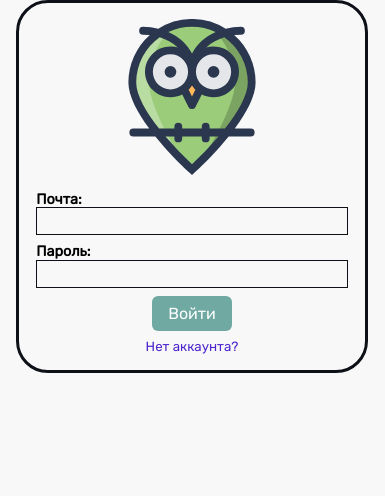
Test: Форма регистрации › рендерит форму Login по умолчанию, по клику рендерит форму Reg
Expected: the text "Пароль:" is shown, [36,244,90,260]
Expected: the text "Почта:" is shown, [36,191,82,208]
Click the button "Нет аккаунта?": (192, 347) [146,339,238,354]
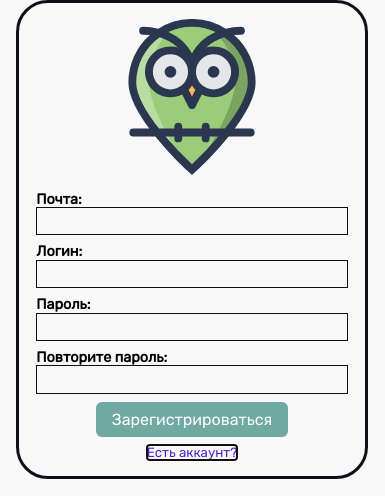
Now the text "Пароль:" is shown, box [36,296,90,313]
Now the text "Логин:" is shown, box [36,244,82,260]
Now the text "Повторите пароль:" is shown, box [36,349,167,366]
